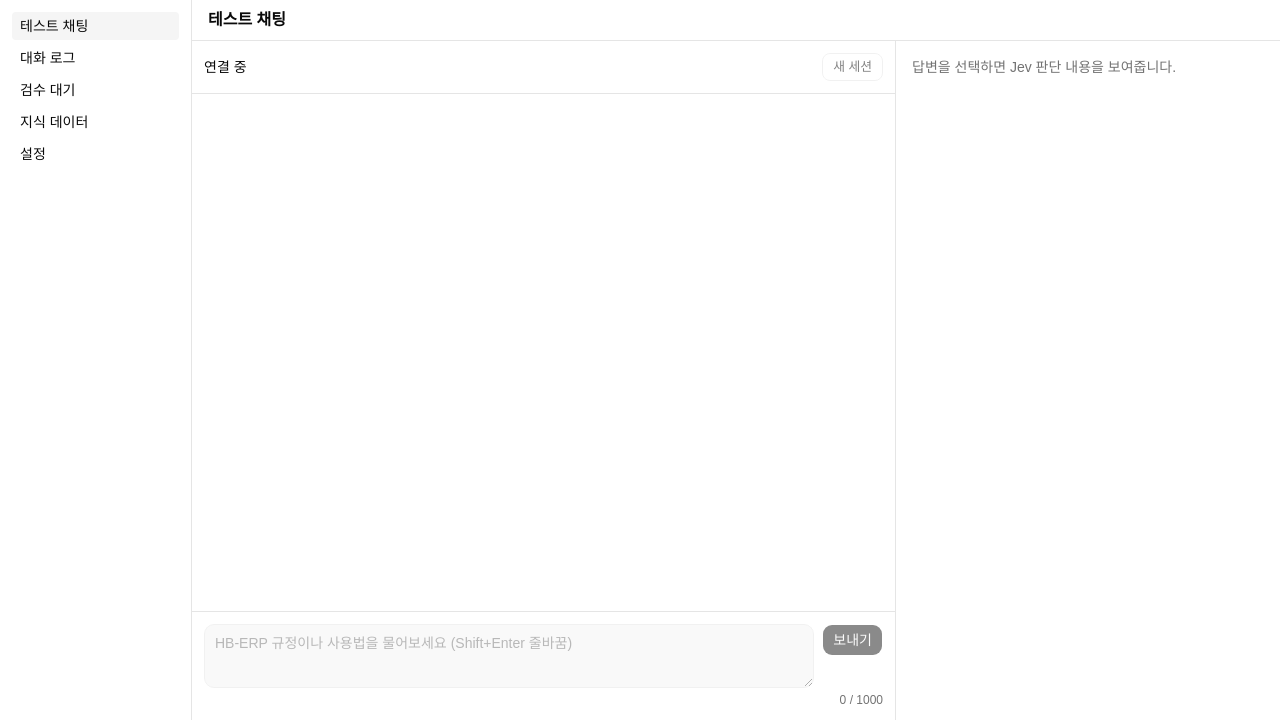
Test: App 셸 › [U6] 관리자 데이터 → 로그아웃 → 다른 토큰 로그인 시 이전 데이터가 보이지 않는다
Click the button "설정" at (96, 154), box [12,140,179,168]
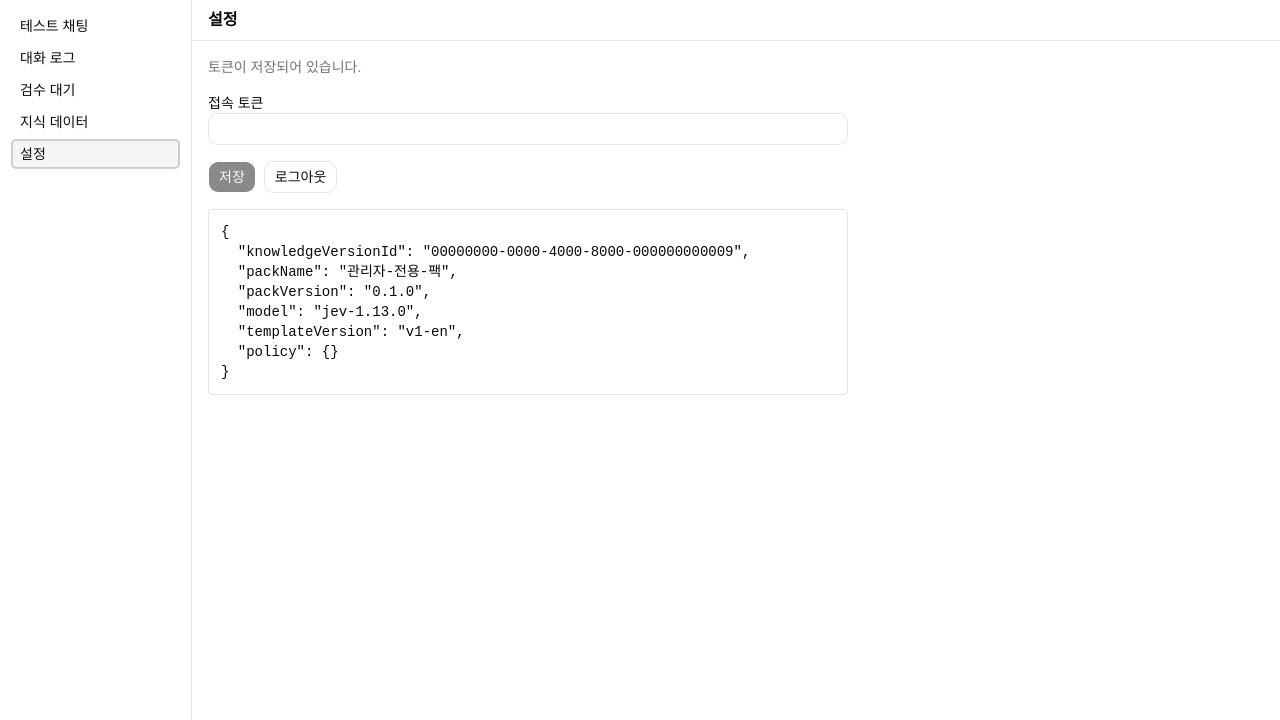
Expected: the text "관리자-전용-팩" is shown, [221,224,750,380]
Click the button "로그아웃" at (301, 177), box [264,161,337,193]
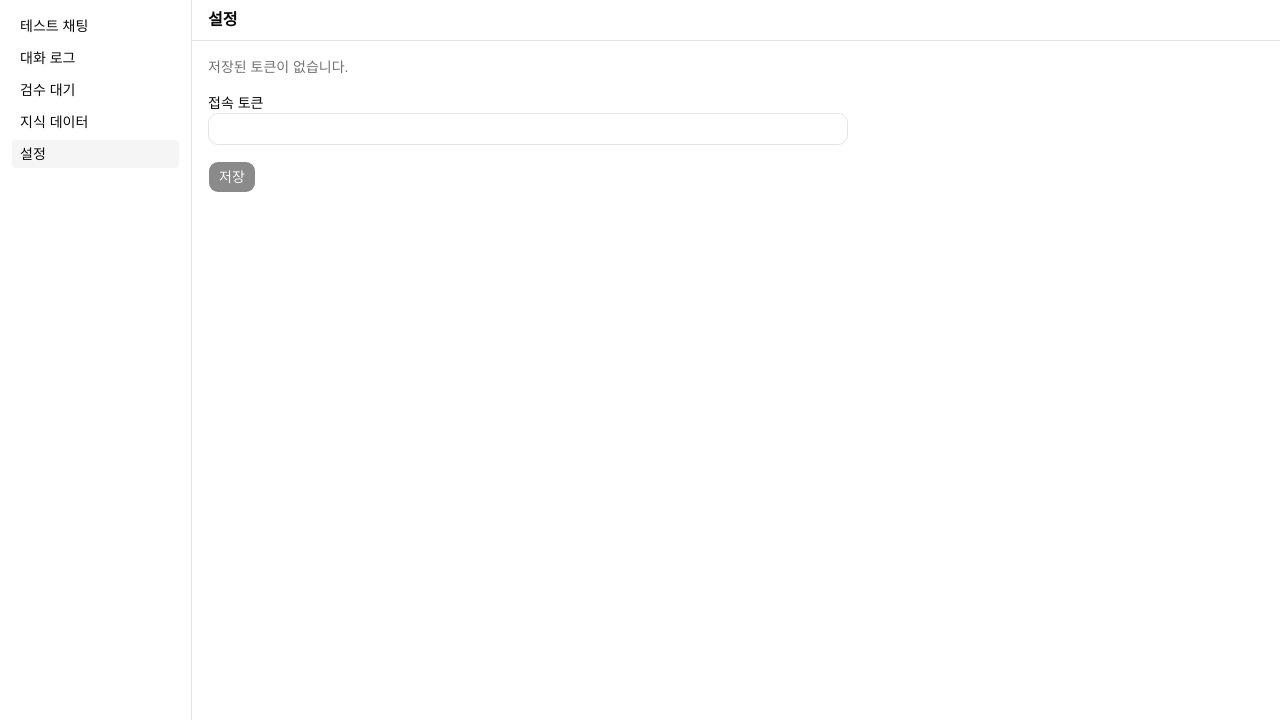
Expected: the text "관리자-전용-팩" is gone
Type "user-token" into the password field labelled "접속 토큰" at (528, 129), box [208,113,848,145]
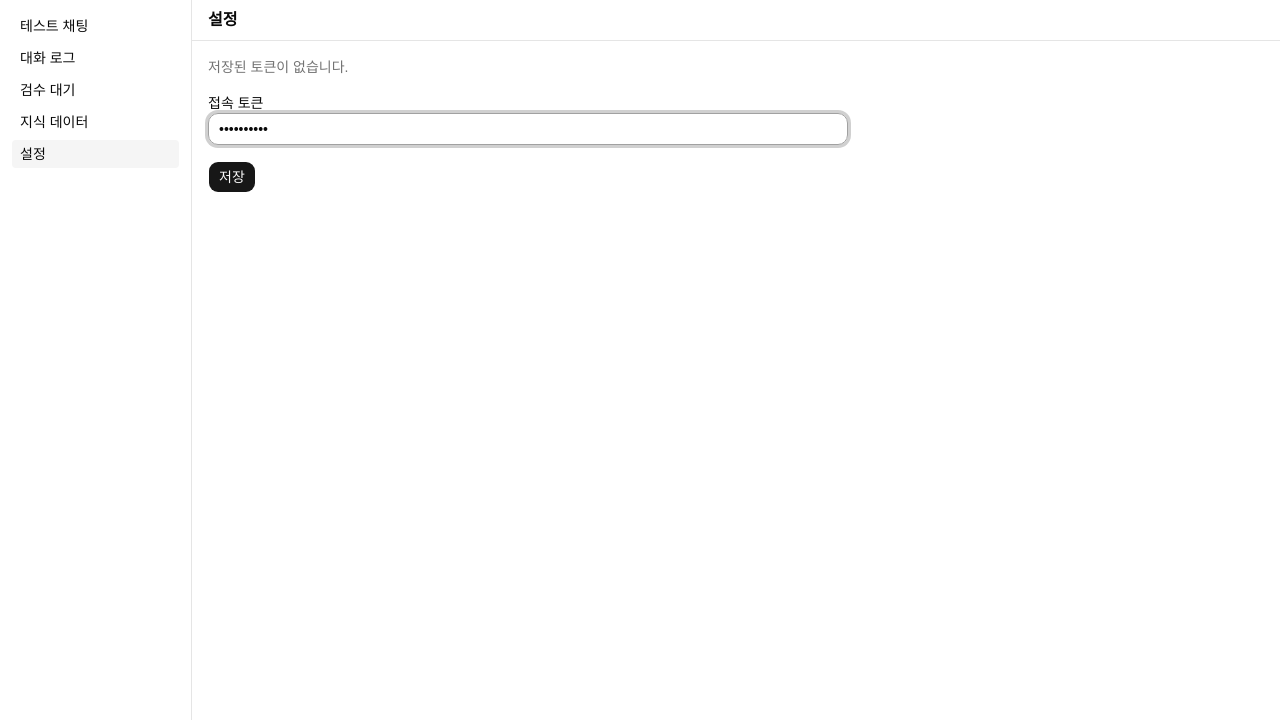
Click the button "저장" at (232, 177), box [208,161,256,193]
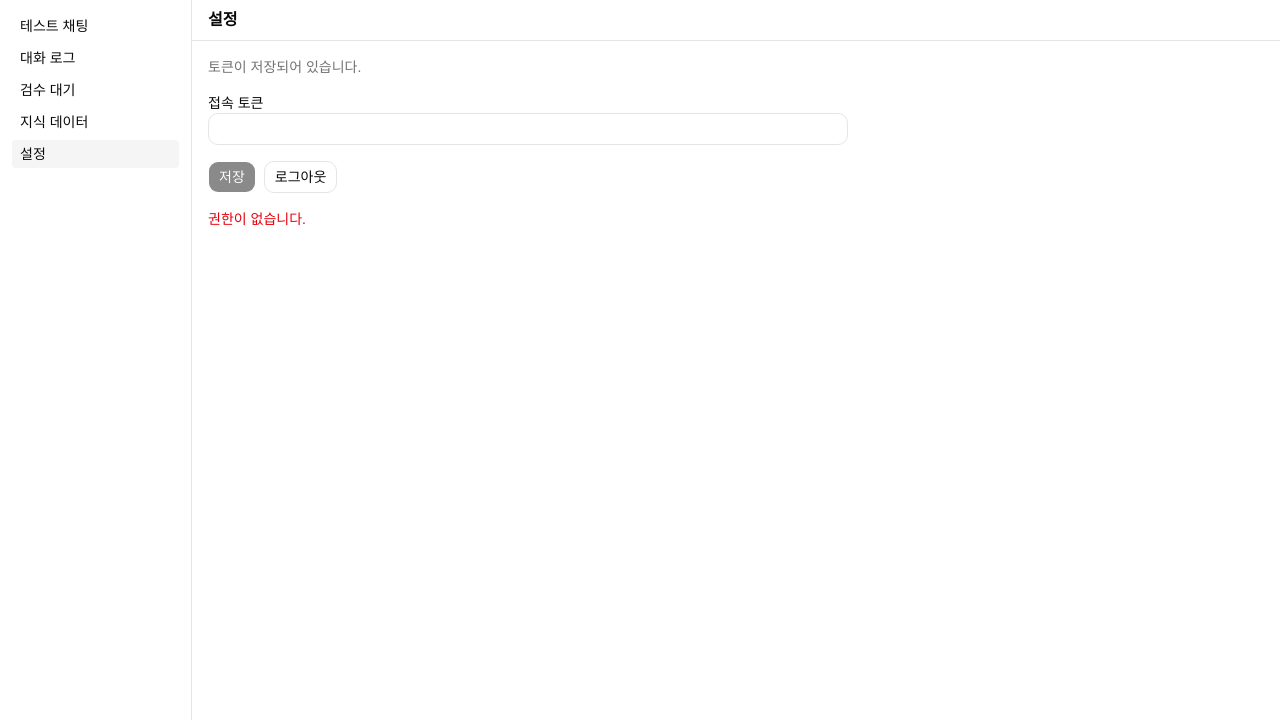
Expected: the text "권한이 없습니다." is shown, [208,211,306,227]
